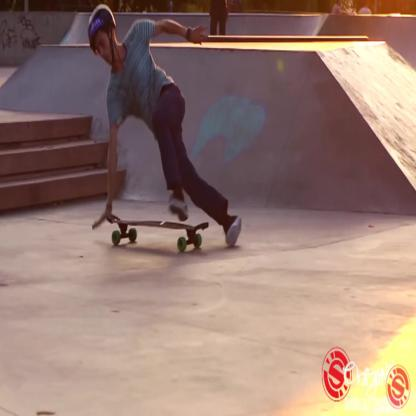Fall_Down: (90, 5, 244, 249)
